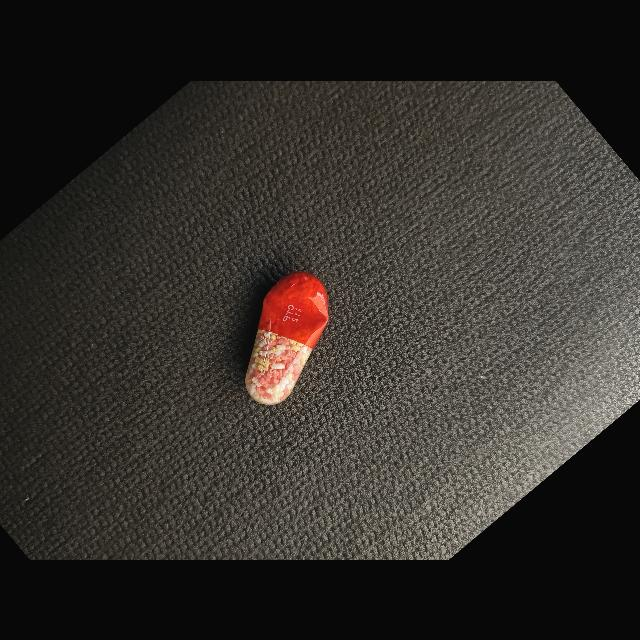Defective Capsule: (246, 271, 329, 390)
